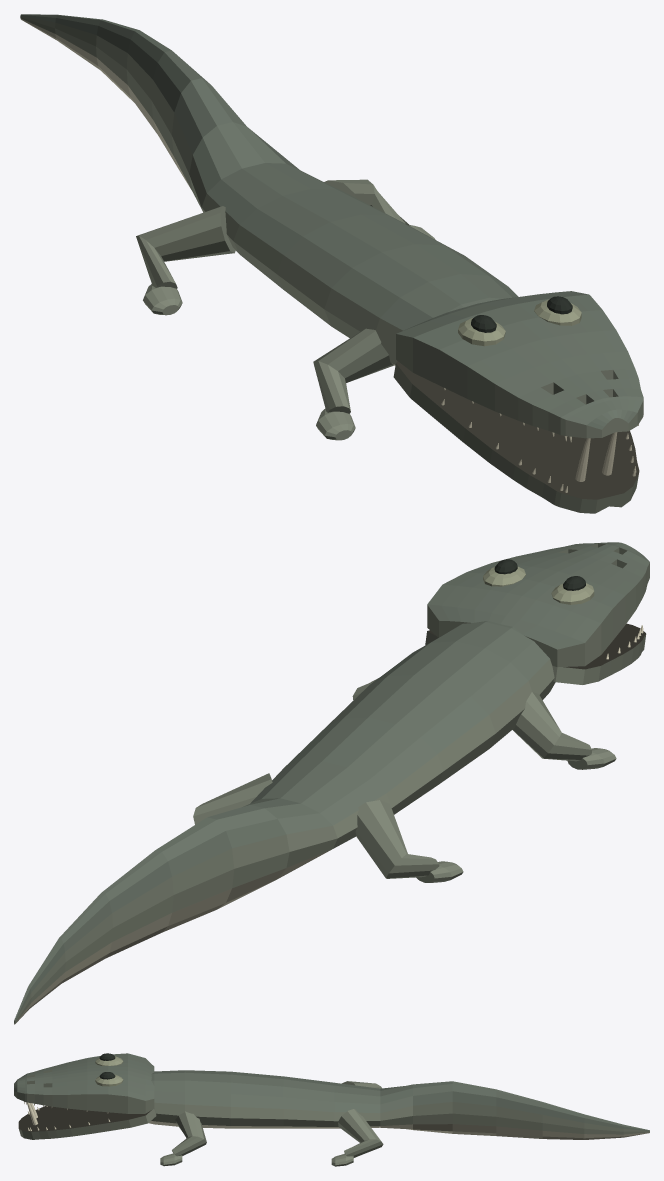
The picture shows the model from 3 angles, top to bottom: view 1: azimuth 30°, elevation 25°; view 2: azimuth 150°, elevation 25°; view 3: azimuth 270°, elevation 25°; orthographic projection. The views are drawn at different scales.
Visible parts, largest first — view 1: continuous-low-trunk-and-compressed-paddle-tail, cranial-roof-palate-with-tusk-exits-and-nares, lower-jaw-hinged-15-degrees, left-hind-bent-limb-and-compact-foot, left-fore-bent-limb-and-compact-foot, paired-dorsal-orbit-rims, right-hind-bent-limb-and-compact-foot, paired-small-dorsal-eyes, paired-lower-jaw-symphyseal-tusks; view 2: continuous-low-trunk-and-compressed-paddle-tail, cranial-roof-palate-with-tusk-exits-and-nares, left-hind-bent-limb-and-compact-foot, left-fore-bent-limb-and-compact-foot, lower-jaw-hinged-15-degrees, right-hind-bent-limb-and-compact-foot, paired-dorsal-orbit-rims; view 3: continuous-low-trunk-and-compressed-paddle-tail, cranial-roof-palate-with-tusk-exits-and-nares, lower-jaw-hinged-15-degrees, right-hind-bent-limb-and-compact-foot, right-fore-bent-limb-and-compact-foot, paired-dorsal-orbit-rims, paired-small-dorsal-eyes.
Part boxes in pixels (x1,y1,x2,y2): continuous-low-trunk-and-compressed-paddle-tail: (20, 14, 518, 365); cranial-roof-palate-with-tusk-exits-and-nares: (396, 291, 643, 438); lower-jaw-hinged-15-degrees: (393, 361, 639, 513); left-hind-bent-limb-and-compact-foot: (136, 206, 235, 315); left-fore-bent-limb-and-compact-foot: (313, 328, 394, 440); paired-dorsal-orbit-rims: (458, 299, 581, 346); right-hind-bent-limb-and-compact-foot: (324, 179, 435, 239); paired-small-dorsal-eyes: (471, 296, 572, 332); paired-lower-jaw-symphyseal-tusks: (575, 432, 617, 481); continuous-low-trunk-and-compressed-paddle-tail: (14, 621, 555, 1024); cranial-roof-palate-with-tusk-exits-and-nares: (427, 542, 649, 667); left-hind-bent-limb-and-compact-foot: (355, 800, 463, 882); left-fore-bent-limb-and-compact-foot: (512, 692, 616, 769); lower-jaw-hinged-15-degrees: (425, 623, 646, 684); right-hind-bent-limb-and-compact-foot: (193, 773, 272, 824); paired-dorsal-orbit-rims: (483, 566, 594, 604); continuous-low-trunk-and-compressed-paddle-tail: (148, 1070, 649, 1139); cranial-roof-palate-with-tusk-exits-and-nares: (14, 1053, 154, 1113); lower-jaw-hinged-15-degrees: (18, 1106, 156, 1139); right-hind-bent-limb-and-compact-foot: (331, 1109, 383, 1166); right-fore-bent-limb-and-compact-foot: (160, 1111, 206, 1166); paired-dorsal-orbit-rims: (95, 1056, 123, 1086); paired-small-dorsal-eyes: (99, 1053, 115, 1079).
Bounding box in the file's own units: 0.75 × 0.357 × 2.9.
